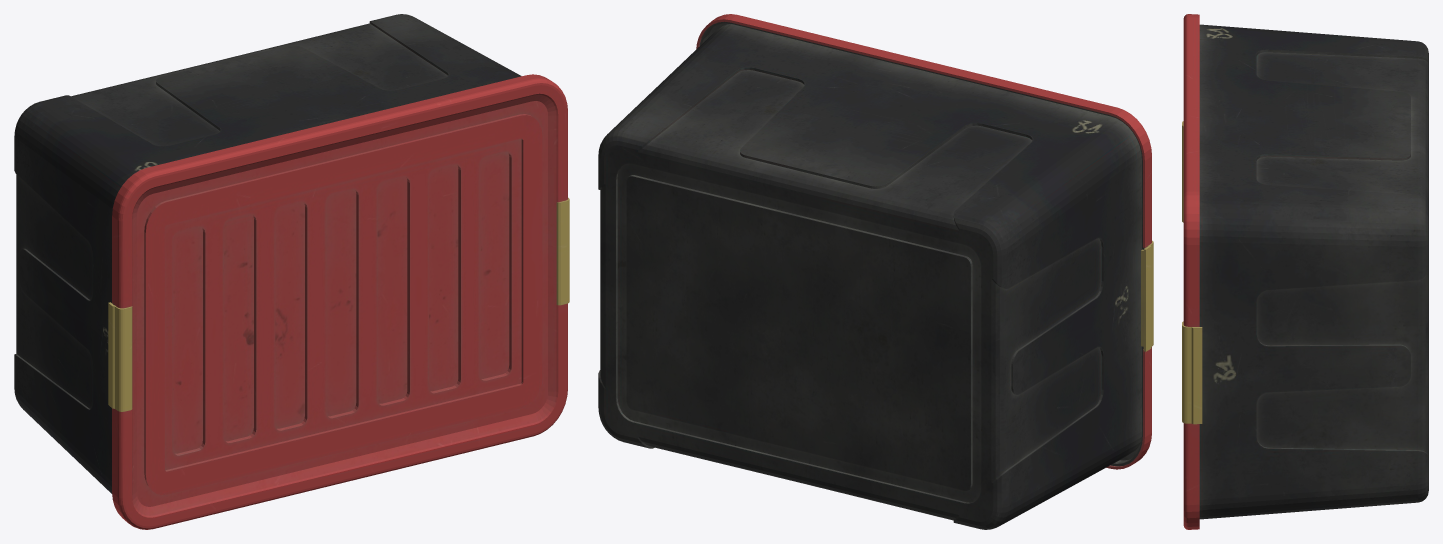
Rendered from plastic_container.obj.
3 views of the same model, side by side, from view 1: azimuth 30°, elevation 25°; view 2: azimuth 150°, elevation 25°; view 3: azimuth 270°, elevation 25° (orthographic). The views are drawn at different scales.
Bounding box in the file's own units: 0.16 × 0.12 × 0.08.
1 material, 1 textured.
